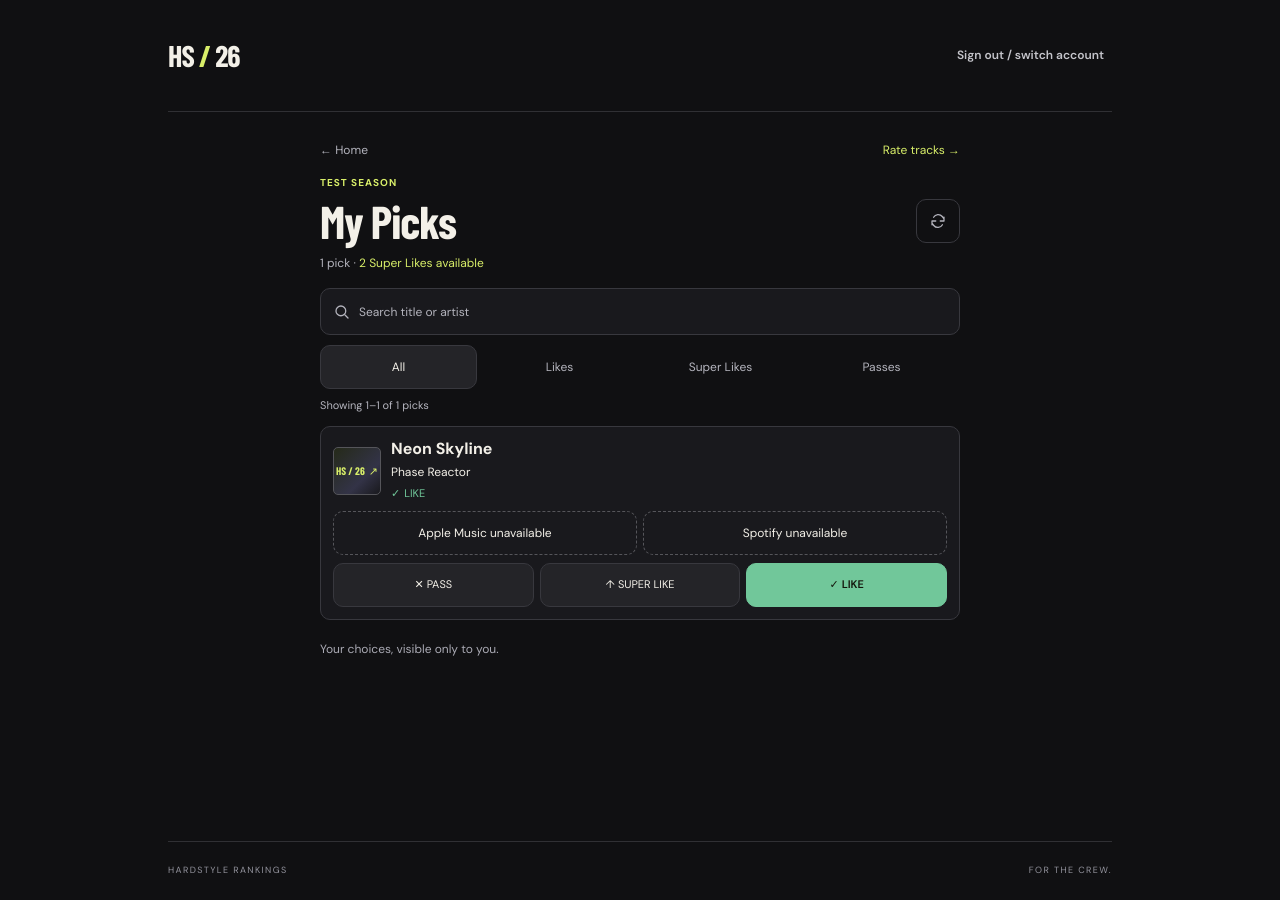
Test: My Picks › edits LIKE to PASS using current version and authoritative allowance
Expected: the element "Neon Skyline" is shown, [320,426,960,620]
Click the button "✕ PASS". click: (433, 585)
box: [333,563,534,607]
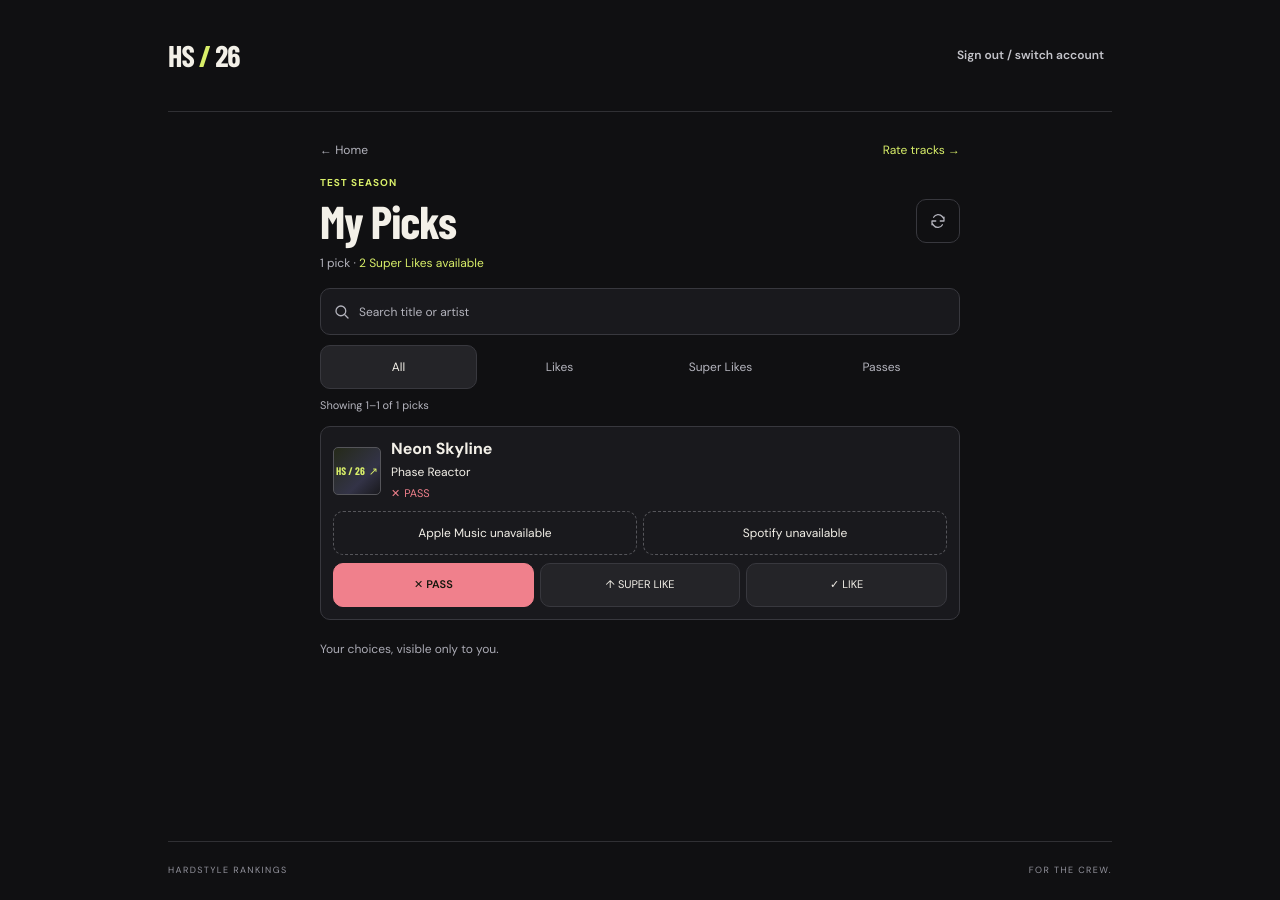
Now the text "PASS" is shown, box [404,486,430,500]
